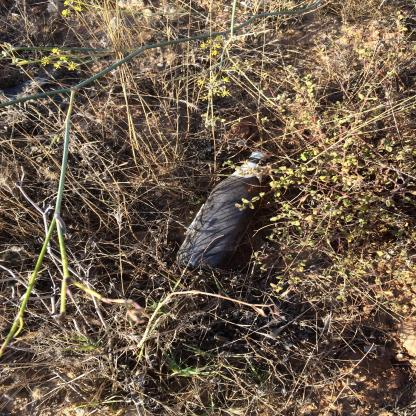trash: (166, 145, 281, 284)
